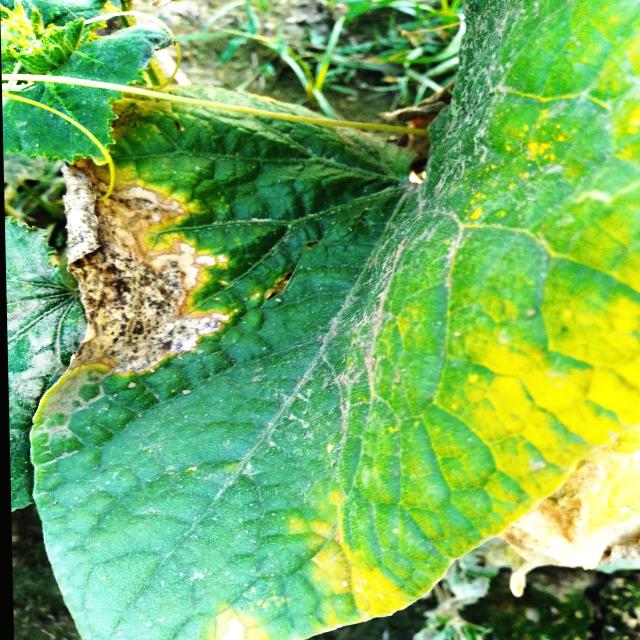Gummy-Stem-Blight: (59, 161, 237, 380)
